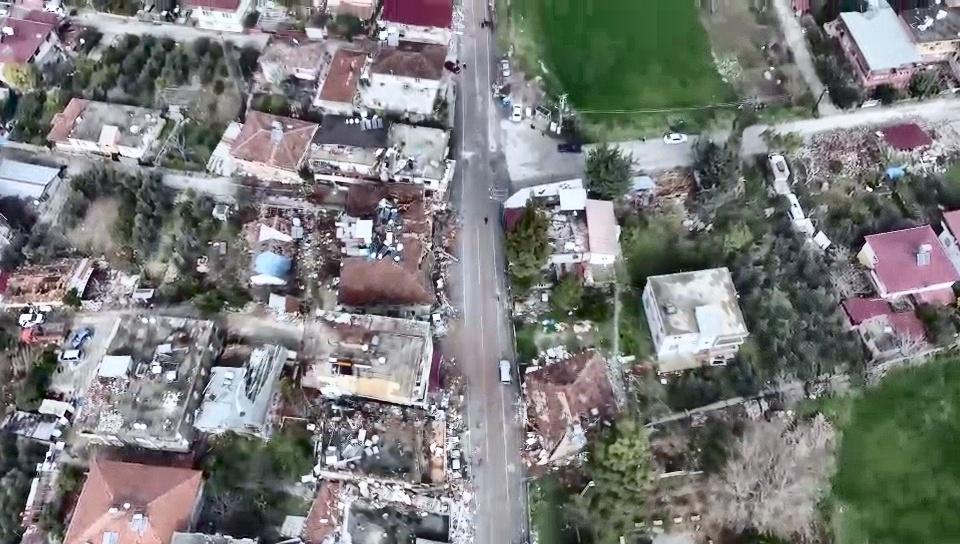kapali: (209, 172, 477, 229)
